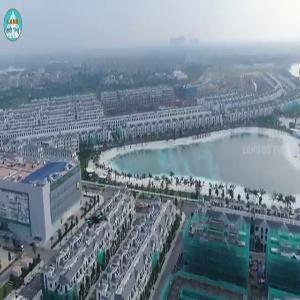drone: (68, 193, 128, 253)
